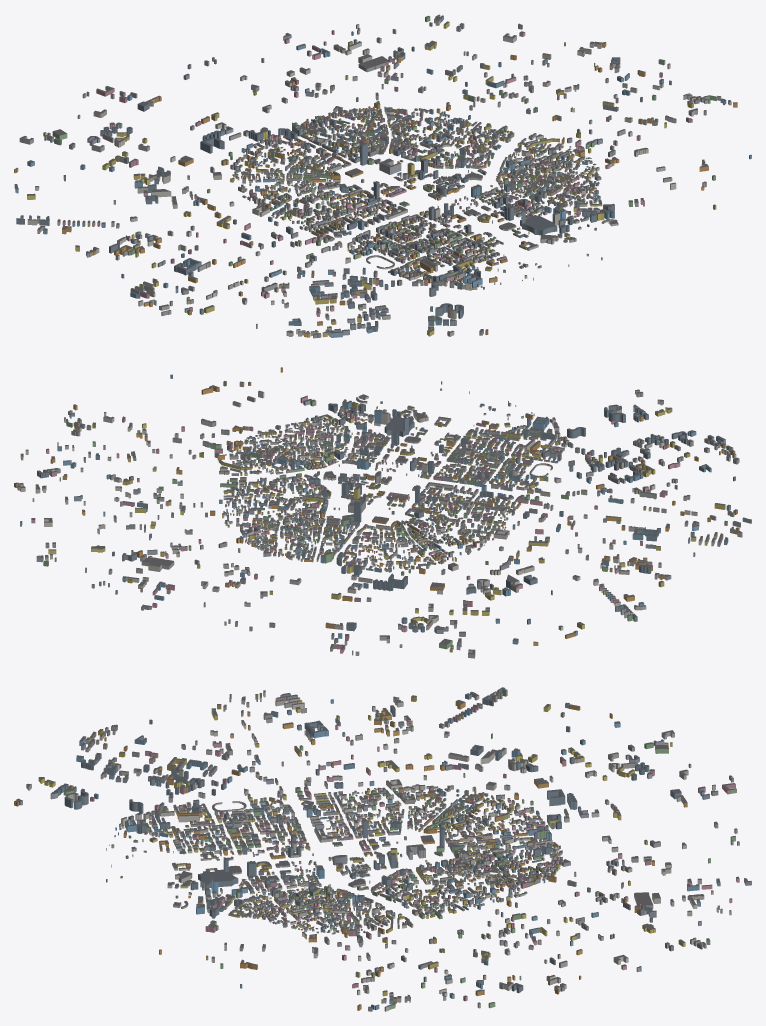
File: buildings.glb
3 renders of one model, top to bottom at view 1: azimuth 30°, elevation 25°; view 2: azimuth 150°, elevation 25°; view 3: azimuth 270°, elevation 25°, orthographic. The views are drawn at different scales.
Parts seen in each view (by area): view 1: chunk_1_3, chunk_-3_1, chunk_-2_3, chunk_3_2, chunk_-1_-2, chunk_-1_2, chunk_-2_0, chunk_-2_-2, chunk_3_1, chunk_2_2, chunk_-2_5, chunk_-1_-4 (+29 smaller); view 2: chunk_1_3, chunk_-2_3, chunk_-3_1, chunk_3_2, chunk_-1_4, chunk_-1_-2, chunk_3_0, chunk_-1_2, chunk_3_1, chunk_2_1, chunk_-2_5, chunk_-2_-2 (+28 smaller); view 3: chunk_1_3, chunk_3_2, chunk_-2_3, chunk_-3_1, chunk_1_-3, chunk_-2_-2, chunk_3_1, chunk_0_-4, chunk_2_2, chunk_-2_5, chunk_0_-2, chunk_2_1 (+30 smaller).
Part boxes in pixels (x1=…): chunk_1_3: x1=497, y1=204, x2=557, y2=235; chunk_-3_1: x1=306, y1=210, x2=357, y2=239; chunk_-2_3: x1=384, y1=235, x2=437, y2=261; chunk_3_2: x1=541, y1=174, x2=596, y2=198; chunk_-1_-2: x1=313, y1=142, x2=367, y2=173; chunk_-1_2: x1=398, y1=206, x2=450, y2=237; chunk_-2_0: x1=320, y1=190, x2=377, y2=215; chunk_-2_-2: x1=277, y1=158, x2=333, y2=183; chunk_3_1: x1=520, y1=160, x2=574, y2=183; chunk_2_2: x1=508, y1=184, x2=559, y2=207; chunk_-2_5: x1=423, y1=265, x2=482, y2=288; chunk_-1_-4: x1=278, y1=118, x2=327, y2=145; chunk_1_3: x1=369, y1=416, x2=421, y2=446; chunk_-2_3: x1=476, y1=451, x2=531, y2=477; chunk_-3_1: x1=469, y1=491, x2=524, y2=514; chunk_3_2: x1=283, y1=422, x2=334, y2=447; chunk_-1_4: x1=460, y1=429, x2=512, y2=452; chunk_-1_-2: x1=339, y1=501, x2=392, y2=540; chunk_3_0: x1=241, y1=451, x2=296, y2=474; chunk_-1_2: x1=421, y1=461, x2=475, y2=482; chunk_3_1: x1=262, y1=438, x2=312, y2=460; chunk_2_1: x1=297, y1=446, x2=345, y2=469; chunk_-2_5: x1=517, y1=416, x2=560, y2=445; chunk_-2_-2: x1=375, y1=524, x2=427, y2=550; chunk_1_3: x1=198, y1=858, x2=262, y2=887; chunk_3_2: x1=259, y1=898, x2=309, y2=922; chunk_-2_3: x1=218, y1=810, x2=266, y2=833; chunk_-3_1: x1=301, y1=791, x2=353, y2=816; chunk_1_-3: x1=475, y1=863, x2=521, y2=885; chunk_-2_-2: x1=429, y1=810, x2=477, y2=831; chunk_3_1: x1=304, y1=900, x2=350, y2=921; chunk_0_-4: x1=519, y1=844, x2=563, y2=867; chunk_2_2: x1=261, y1=878, x2=307, y2=903; chunk_-2_5: x1=125, y1=810, x2=174, y2=833; chunk_0_-2: x1=434, y1=844, x2=478, y2=867; chunk_2_1: x1=304, y1=882, x2=349, y2=904.
Bounding box in the file's own units: 4519 × 158 × 4288.
